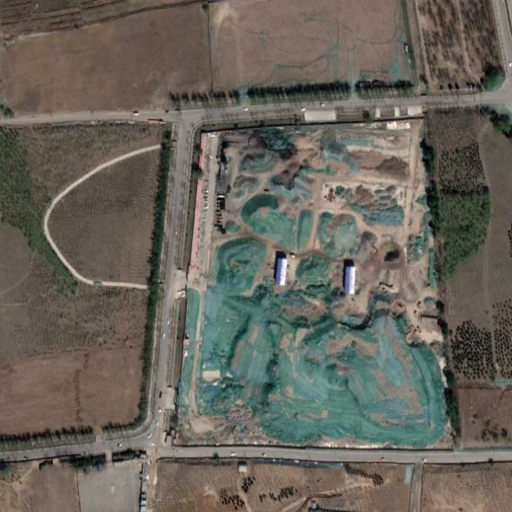cw: (172, 122, 451, 449)
